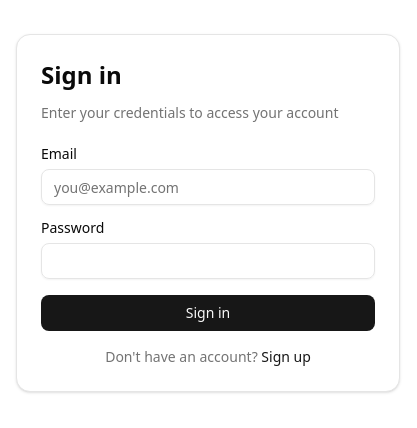
Scenario: SignIn › shows the API error message when sign-in fails
Type "alice@example.com" into the field labelled "Email" at (208, 187), box [41,169,375,205]
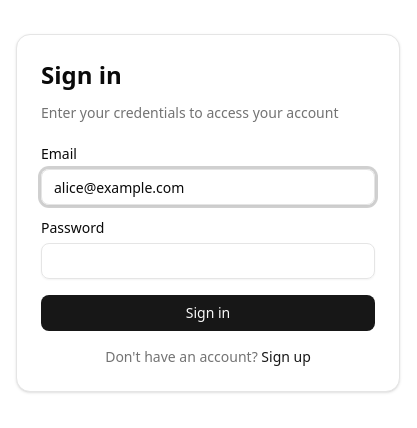
Type "password1" into the password field labelled "Password" at (208, 261), box [41,243,375,279]
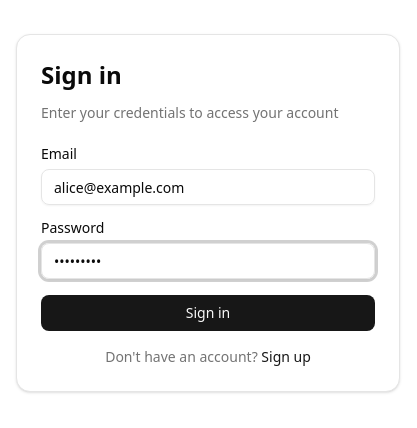
Click the button "Sign in" at (208, 313), box [41,295,375,331]
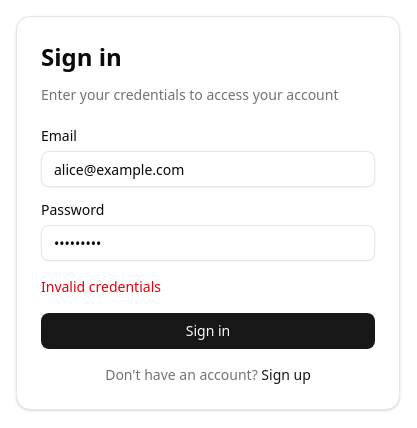
Expected: the text "Invalid credentials" is shown, [41,277,161,296]
